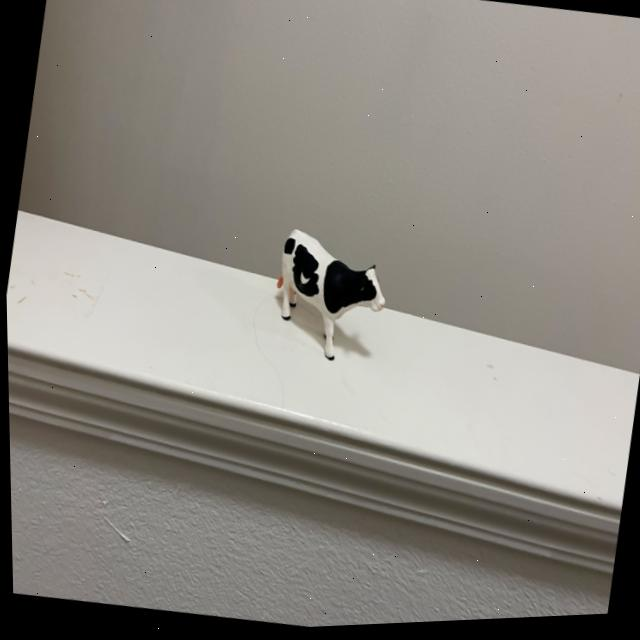cow: (243, 212, 399, 367), (296, 246, 307, 255)
